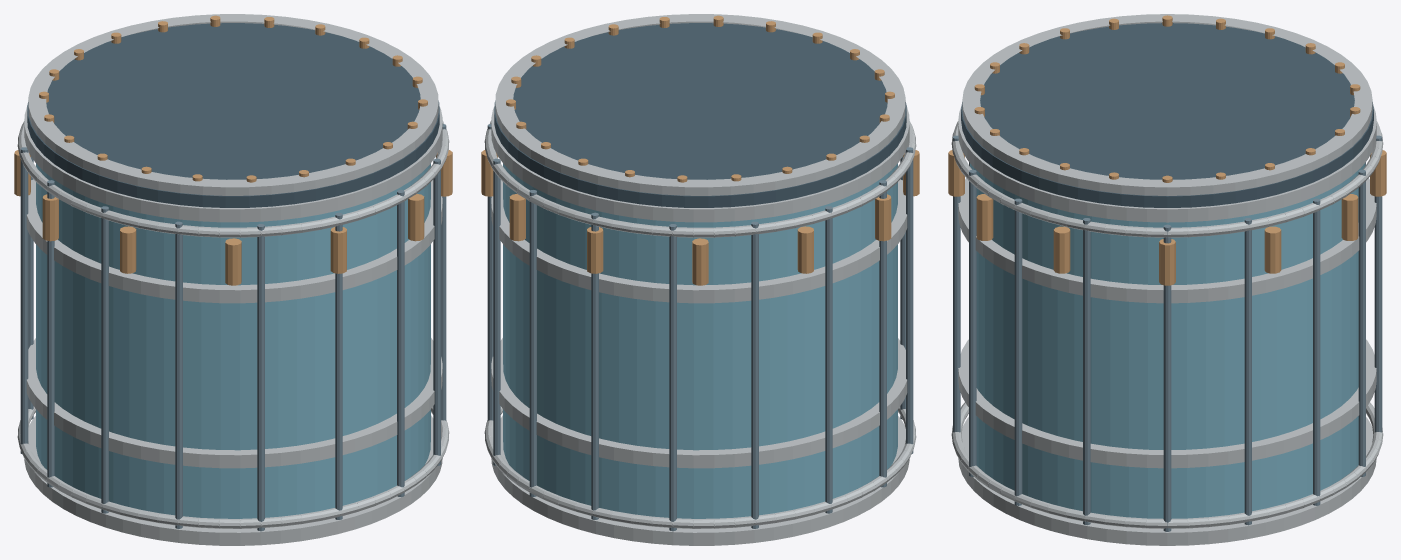
File: 02_L76_PrecisionCopperPlatingCell.glb
3 views of the same model, side by side, from view 1: azimuth 30°, elevation 25°; view 2: azimuth 150°, elevation 25°; view 3: azimuth 270°, elevation 25° (orthographic).
Visible parts, largest first — view 1: PrecisionCopperPlatingCell_Node_0000, PrecisionCopperPlatingCell_Node_0351, PrecisionCopperPlatingCell_Node_0352, PrecisionCopperPlatingCell_Node_0002, PrecisionCopperPlatingCell_Node_0003, PrecisionCopperPlatingCell_Node_0001, PrecisionCopperPlatingCell_Node_0004, PrecisionCopperPlatingCell_Node_0014, PrecisionCopperPlatingCell_Node_0010, PrecisionCopperPlatingCell_Node_0011, PrecisionCopperPlatingCell_Node_0012, PrecisionCopperPlatingCell_Node_0008 (+10 smaller); view 2: PrecisionCopperPlatingCell_Node_0000, PrecisionCopperPlatingCell_Node_0351, PrecisionCopperPlatingCell_Node_0352, PrecisionCopperPlatingCell_Node_0002, PrecisionCopperPlatingCell_Node_0003, PrecisionCopperPlatingCell_Node_0001, PrecisionCopperPlatingCell_Node_0004, PrecisionCopperPlatingCell_Node_0016, PrecisionCopperPlatingCell_Node_0015, PrecisionCopperPlatingCell_Node_0014, PrecisionCopperPlatingCell_Node_0018, PrecisionCopperPlatingCell_Node_0019 (+10 smaller); view 3: PrecisionCopperPlatingCell_Node_0000, PrecisionCopperPlatingCell_Node_0351, PrecisionCopperPlatingCell_Node_0352, PrecisionCopperPlatingCell_Node_0002, PrecisionCopperPlatingCell_Node_0003, PrecisionCopperPlatingCell_Node_0001, PrecisionCopperPlatingCell_Node_0004, PrecisionCopperPlatingCell_Node_0007, PrecisionCopperPlatingCell_Node_0006, PrecisionCopperPlatingCell_Node_0020, PrecisionCopperPlatingCell_Node_0019, PrecisionCopperPlatingCell_Node_0018 (+11 smaller).
Part boxes in pixels (bbox=[...]): PrecisionCopperPlatingCell_Node_0000: bbox=[36, 163, 430, 518]; PrecisionCopperPlatingCell_Node_0351: bbox=[27, 23, 439, 207]; PrecisionCopperPlatingCell_Node_0352: bbox=[28, 14, 438, 195]; PrecisionCopperPlatingCell_Node_0002: bbox=[26, 338, 442, 468]; PrecisionCopperPlatingCell_Node_0003: bbox=[26, 179, 442, 303]; PrecisionCopperPlatingCell_Node_0001: bbox=[24, 415, 442, 545]; PrecisionCopperPlatingCell_Node_0004: bbox=[24, 106, 442, 222]; PrecisionCopperPlatingCell_Node_0014: bbox=[20, 147, 28, 453]; PrecisionCopperPlatingCell_Node_0010: bbox=[257, 224, 264, 531]; PrecisionCopperPlatingCell_Node_0011: bbox=[175, 221, 182, 528]; PrecisionCopperPlatingCell_Node_0012: bbox=[101, 206, 108, 513]; PrecisionCopperPlatingCell_Node_0008: bbox=[397, 189, 404, 496]; PrecisionCopperPlatingCell_Node_0000: bbox=[503, 163, 897, 518]; PrecisionCopperPlatingCell_Node_0351: bbox=[494, 23, 906, 207]; PrecisionCopperPlatingCell_Node_0352: bbox=[495, 14, 905, 195]; PrecisionCopperPlatingCell_Node_0002: bbox=[491, 338, 907, 468]; PrecisionCopperPlatingCell_Node_0003: bbox=[491, 179, 907, 303]; PrecisionCopperPlatingCell_Node_0001: bbox=[491, 415, 909, 545]; PrecisionCopperPlatingCell_Node_0004: bbox=[491, 106, 909, 222]; PrecisionCopperPlatingCell_Node_0016: bbox=[669, 224, 676, 531]; PrecisionCopperPlatingCell_Node_0015: bbox=[751, 221, 758, 528]; PrecisionCopperPlatingCell_Node_0014: bbox=[825, 206, 832, 513]; PrecisionCopperPlatingCell_Node_0018: bbox=[529, 190, 536, 496]; PrecisionCopperPlatingCell_Node_0019: bbox=[493, 158, 500, 465]; PrecisionCopperPlatingCell_Node_0000: bbox=[970, 163, 1364, 518]; PrecisionCopperPlatingCell_Node_0351: bbox=[961, 23, 1373, 207]; PrecisionCopperPlatingCell_Node_0352: bbox=[962, 14, 1372, 195]; PrecisionCopperPlatingCell_Node_0002: bbox=[958, 339, 1376, 468]; PrecisionCopperPlatingCell_Node_0003: bbox=[958, 178, 1376, 303]; PrecisionCopperPlatingCell_Node_0001: bbox=[958, 417, 1376, 545]; PrecisionCopperPlatingCell_Node_0004: bbox=[958, 106, 1376, 222]; PrecisionCopperPlatingCell_Node_0007: bbox=[1014, 198, 1022, 505]; PrecisionCopperPlatingCell_Node_0006: bbox=[1083, 218, 1090, 525]; PrecisionCopperPlatingCell_Node_0020: bbox=[1244, 218, 1251, 525]; PrecisionCopperPlatingCell_Node_0019: bbox=[1313, 198, 1320, 505]; PrecisionCopperPlatingCell_Node_0018: bbox=[1358, 169, 1365, 476].
Bounding box in the file's own units: 3.92 × 3.56 × 3.93.
